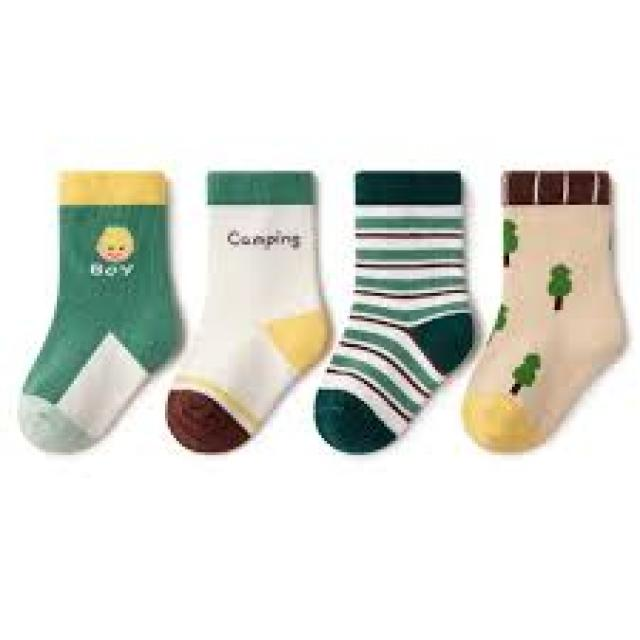sock: (162, 168, 333, 452), (14, 168, 185, 452), (313, 168, 481, 452), (461, 168, 626, 452)
